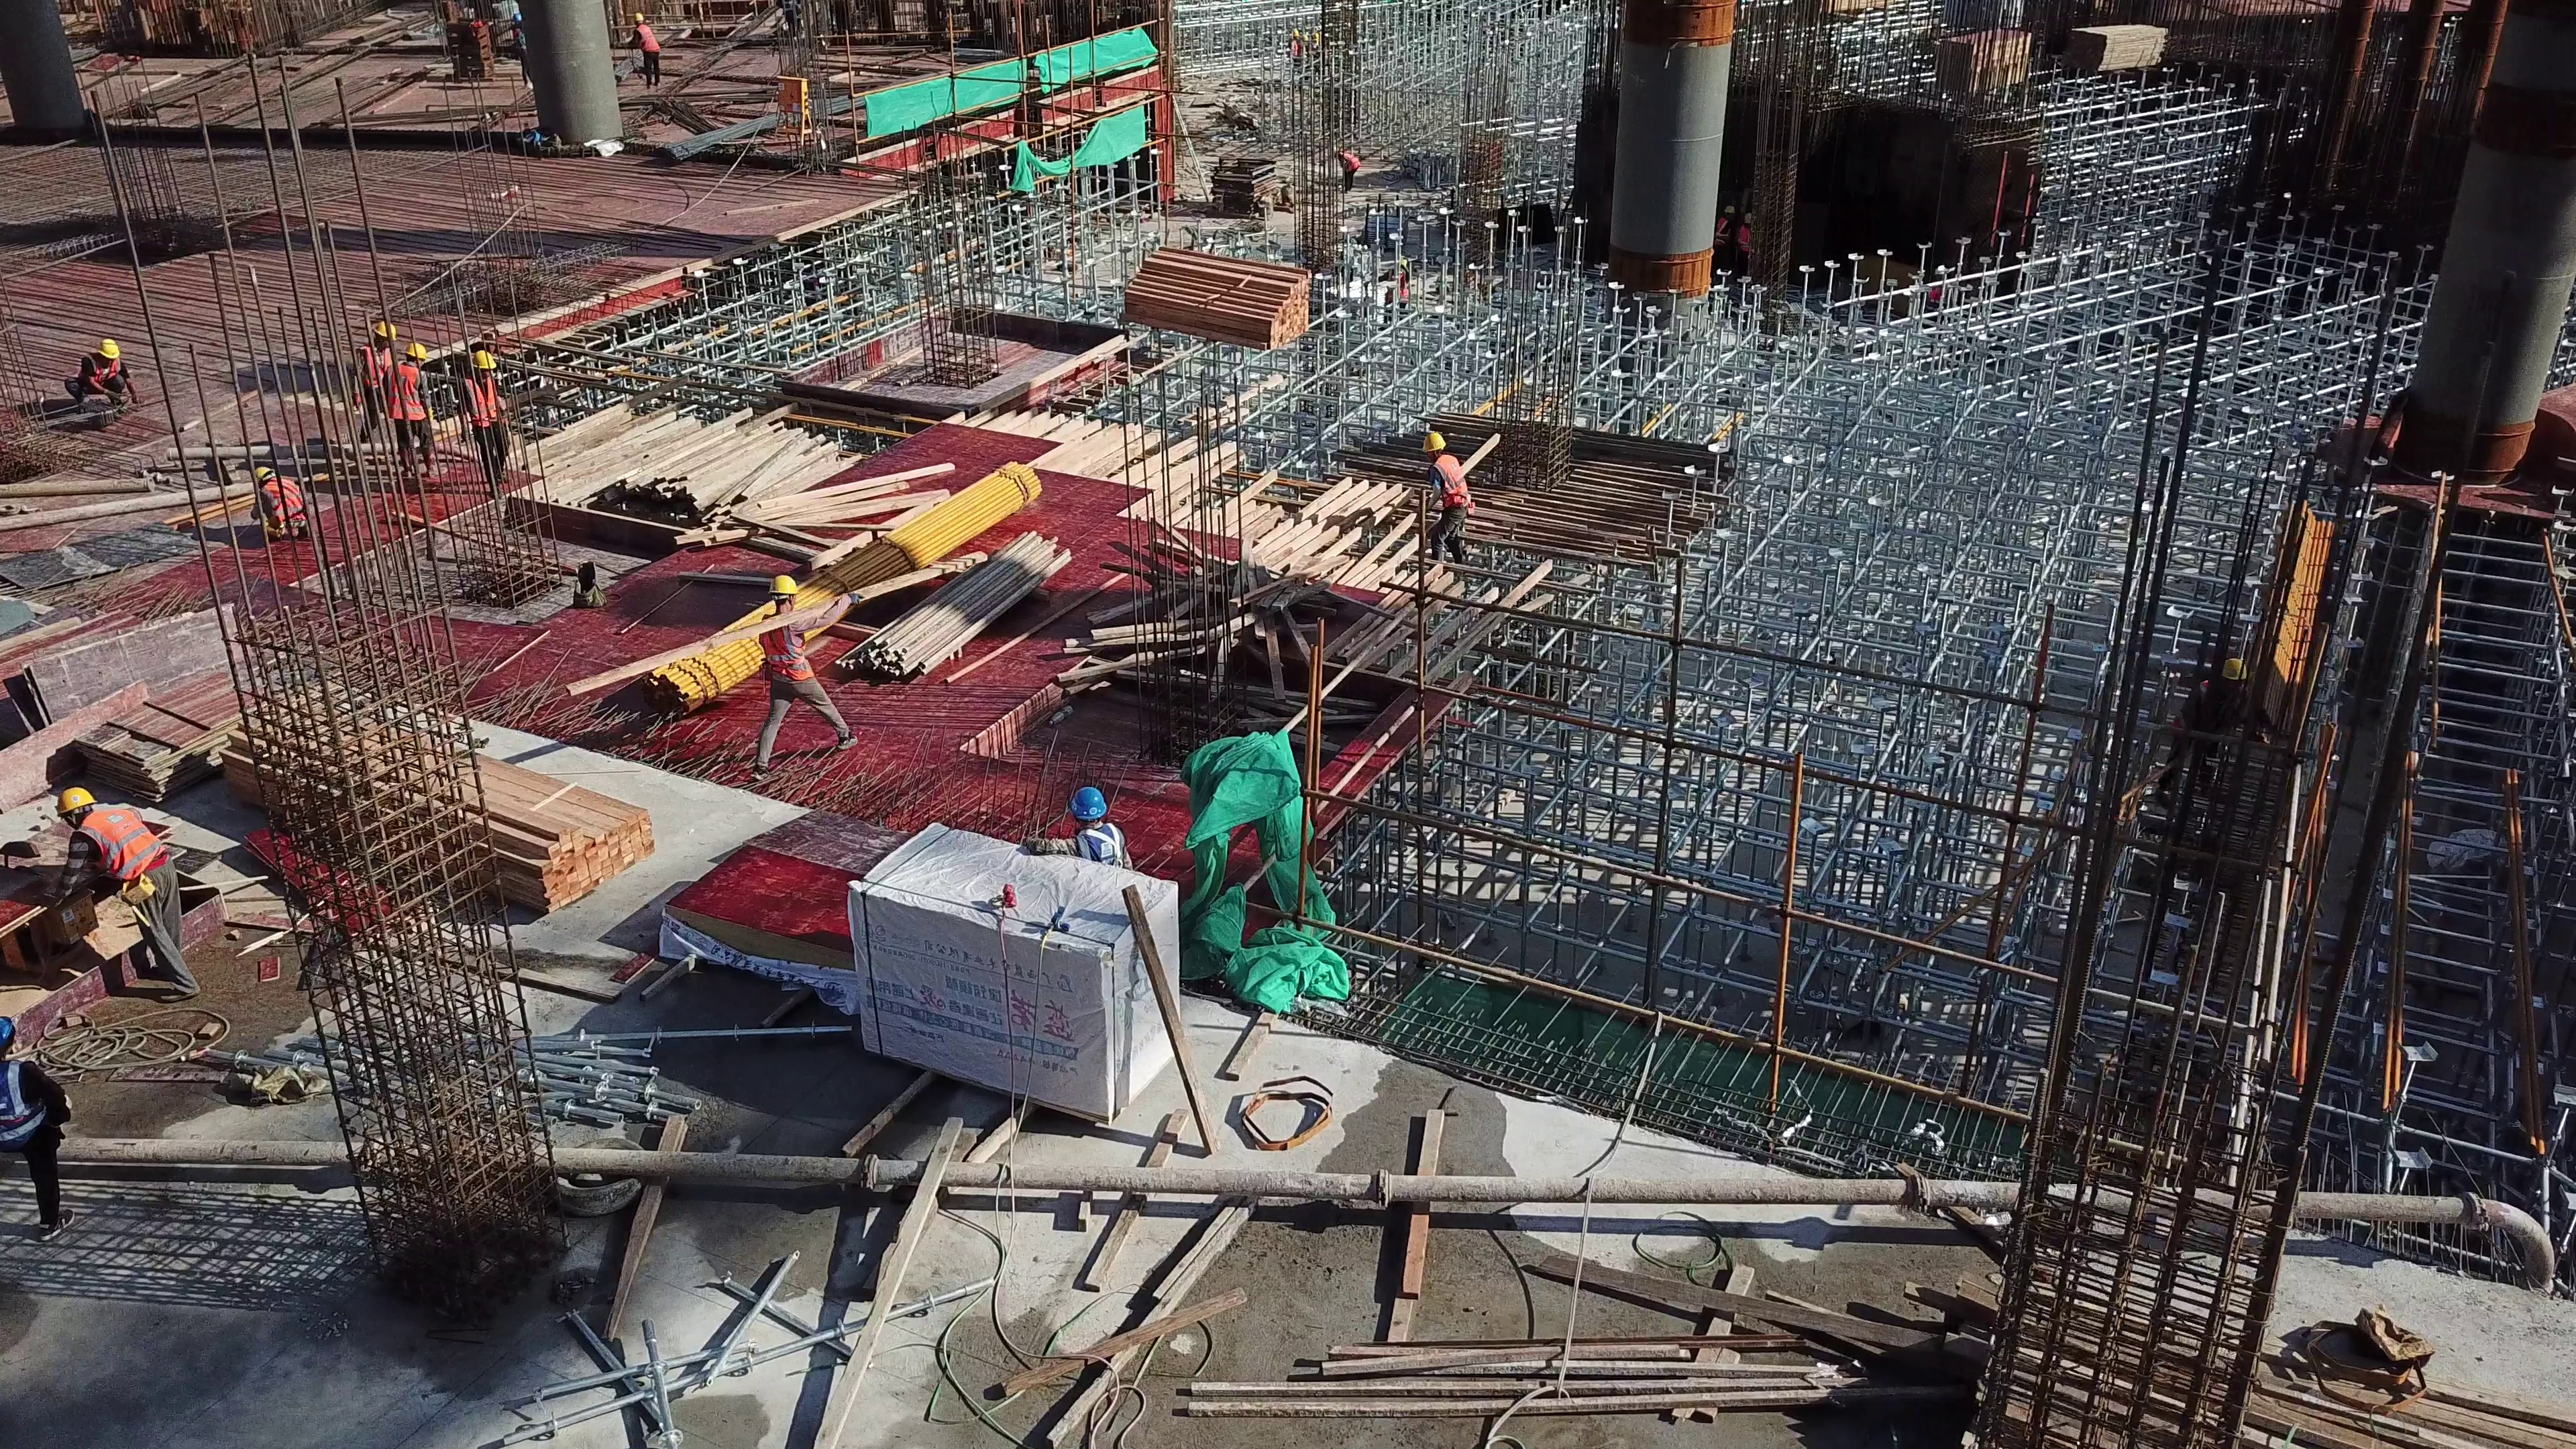helmet: (1067, 786, 1110, 820), (56, 786, 97, 816), (767, 574, 799, 599), (471, 349, 498, 375), (2221, 655, 2247, 682), (371, 320, 396, 343), (1421, 430, 1444, 453), (1, 1014, 16, 1046), (403, 341, 426, 363), (96, 339, 119, 359), (250, 465, 269, 482), (1742, 214, 1753, 223), (1725, 202, 1733, 211)
person: (38, 787, 205, 1004), (753, 574, 867, 781), (1, 1012, 75, 1247), (2153, 656, 2251, 802), (1019, 784, 1135, 871), (462, 352, 521, 499), (382, 343, 442, 483), (1419, 431, 1472, 568), (63, 339, 140, 409), (352, 321, 392, 442), (250, 467, 309, 537), (619, 11, 661, 94), (507, 11, 537, 89), (1379, 257, 1410, 318), (775, 1, 804, 41), (1337, 150, 1360, 192), (1715, 201, 1731, 262), (1737, 211, 1751, 268), (1288, 26, 1300, 72)
vest: (75, 810, 172, 877), (1, 1059, 48, 1141), (762, 613, 814, 682), (1073, 823, 1123, 863), (1435, 455, 1470, 509), (466, 375, 501, 426), (264, 478, 305, 523), (392, 367, 427, 419), (360, 339, 388, 387), (81, 354, 120, 386), (639, 23, 655, 52), (1340, 149, 1354, 172), (1715, 215, 1727, 241), (1740, 225, 1750, 252)
